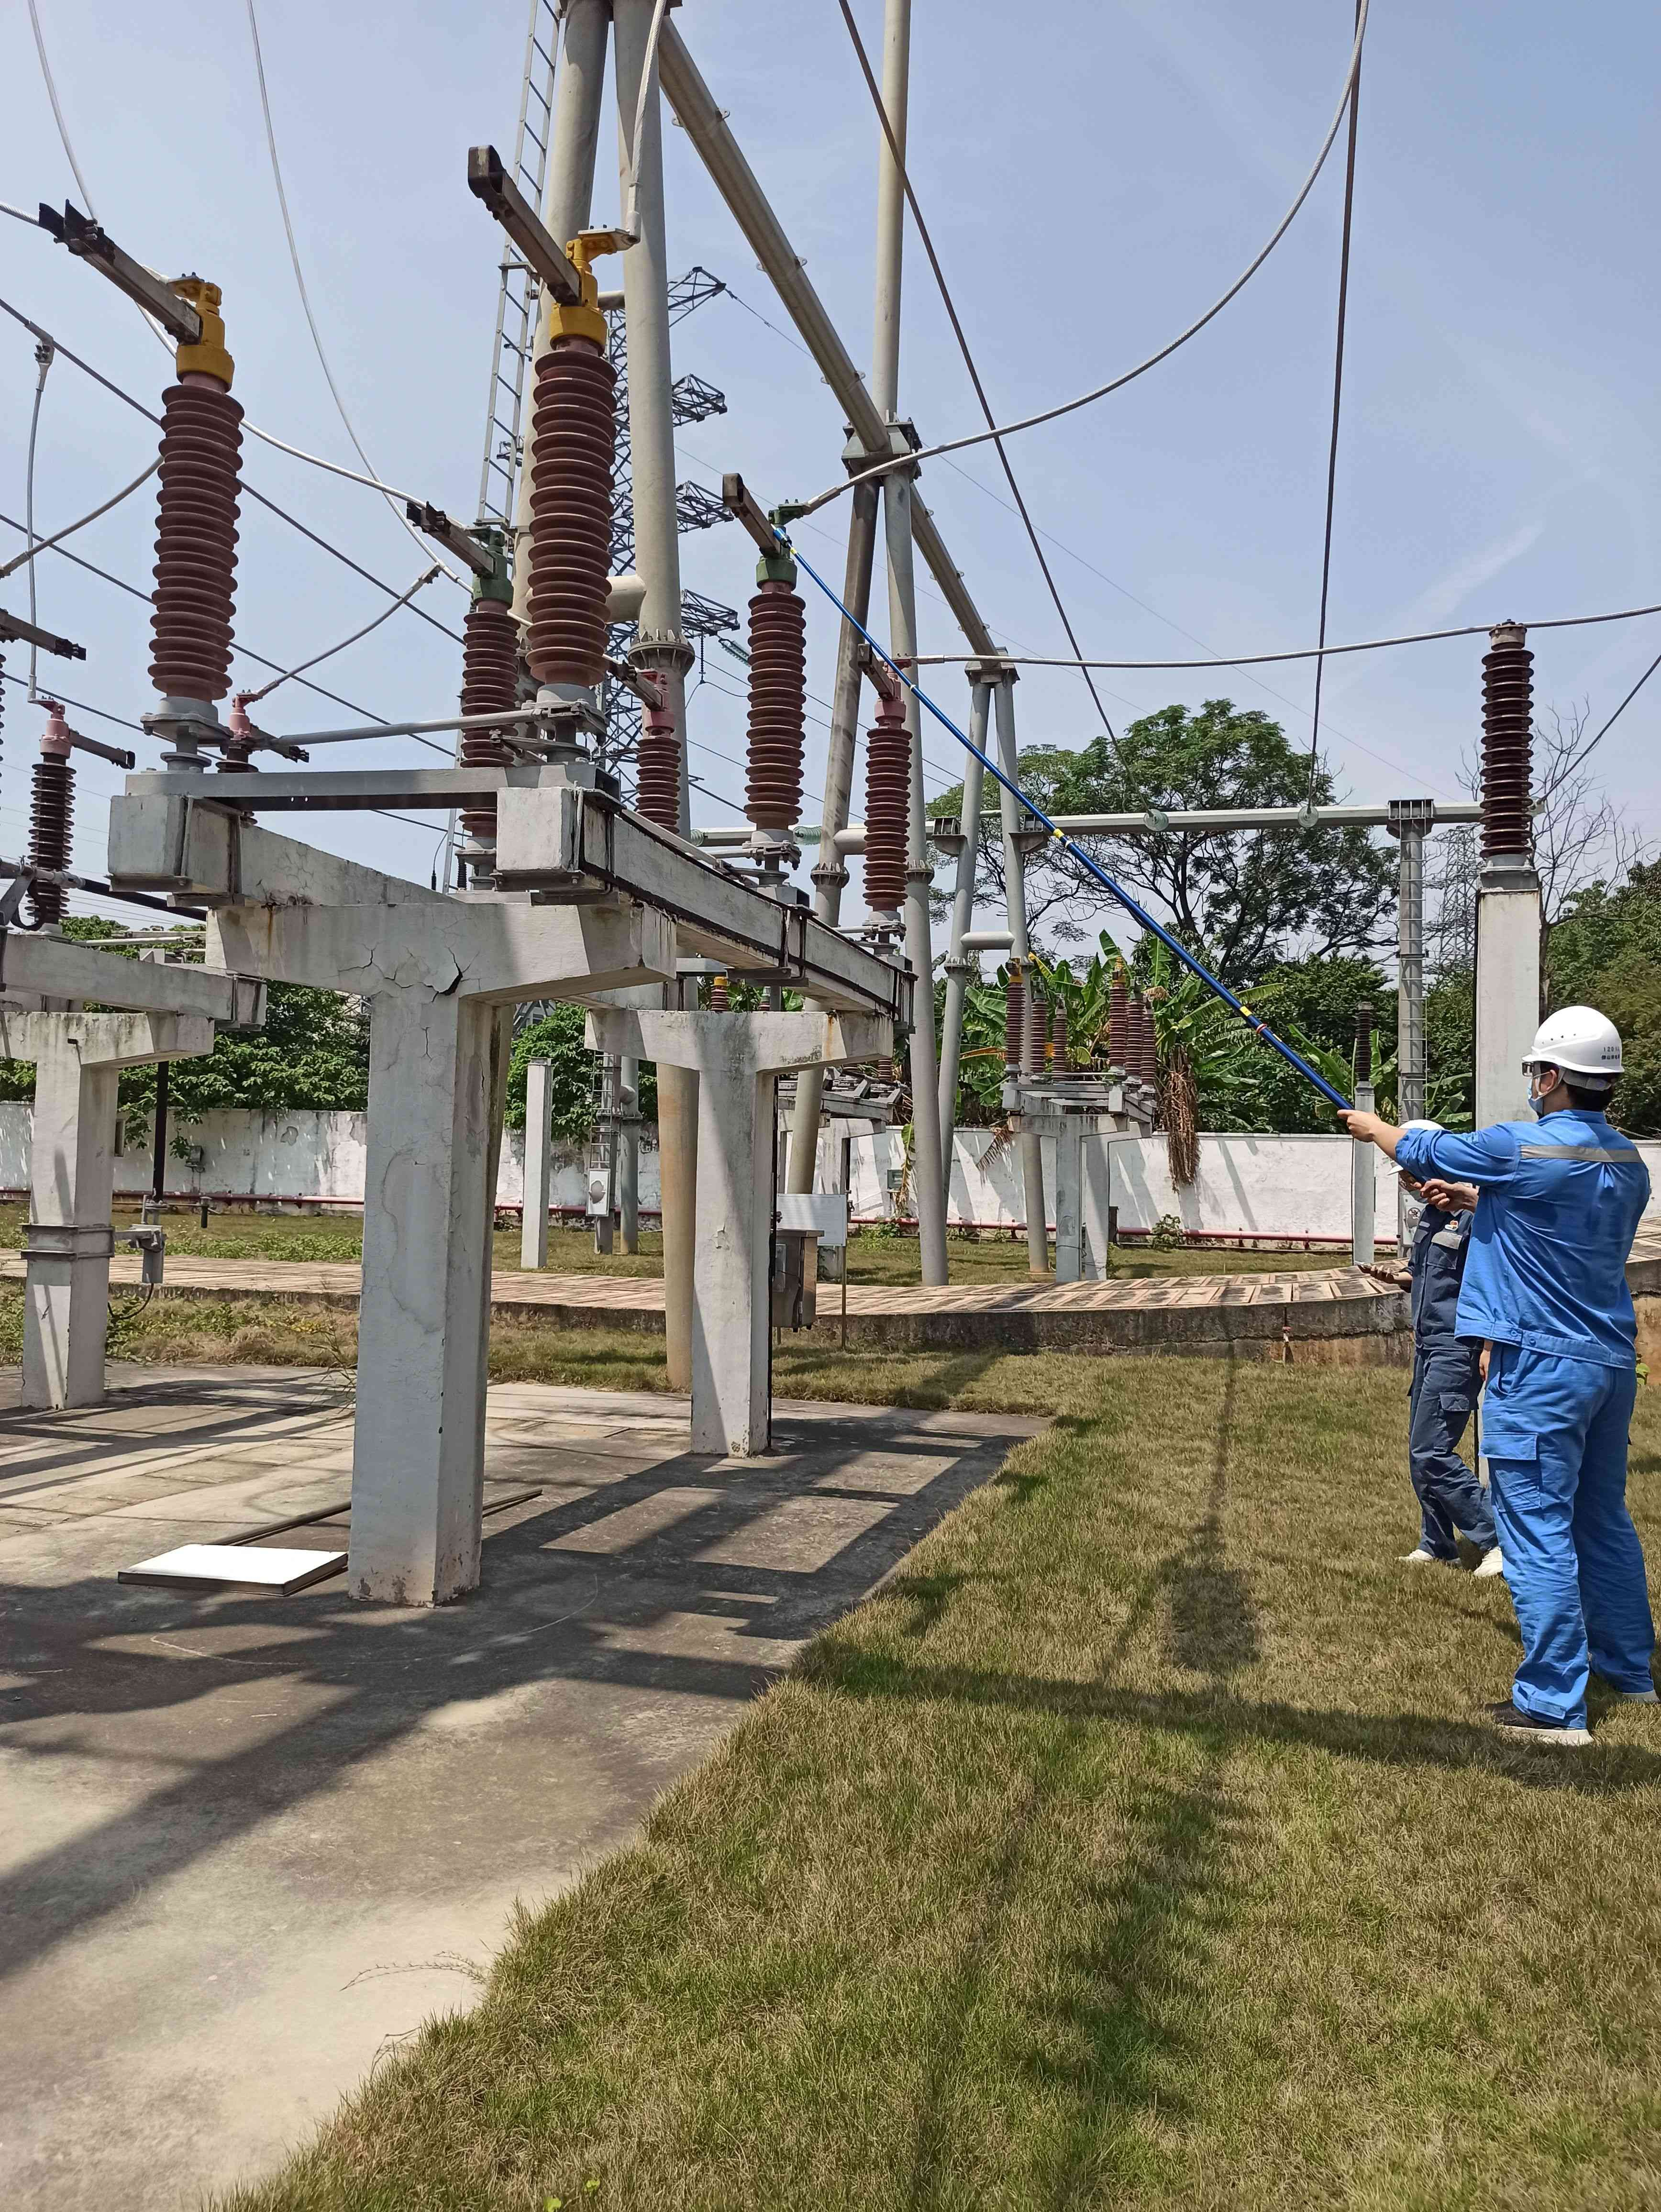downsuit: (1474, 1373, 1661, 1720)
upsuit: (1410, 1108, 1661, 1355)
wrongtop: (1342, 1104, 1431, 1185)
